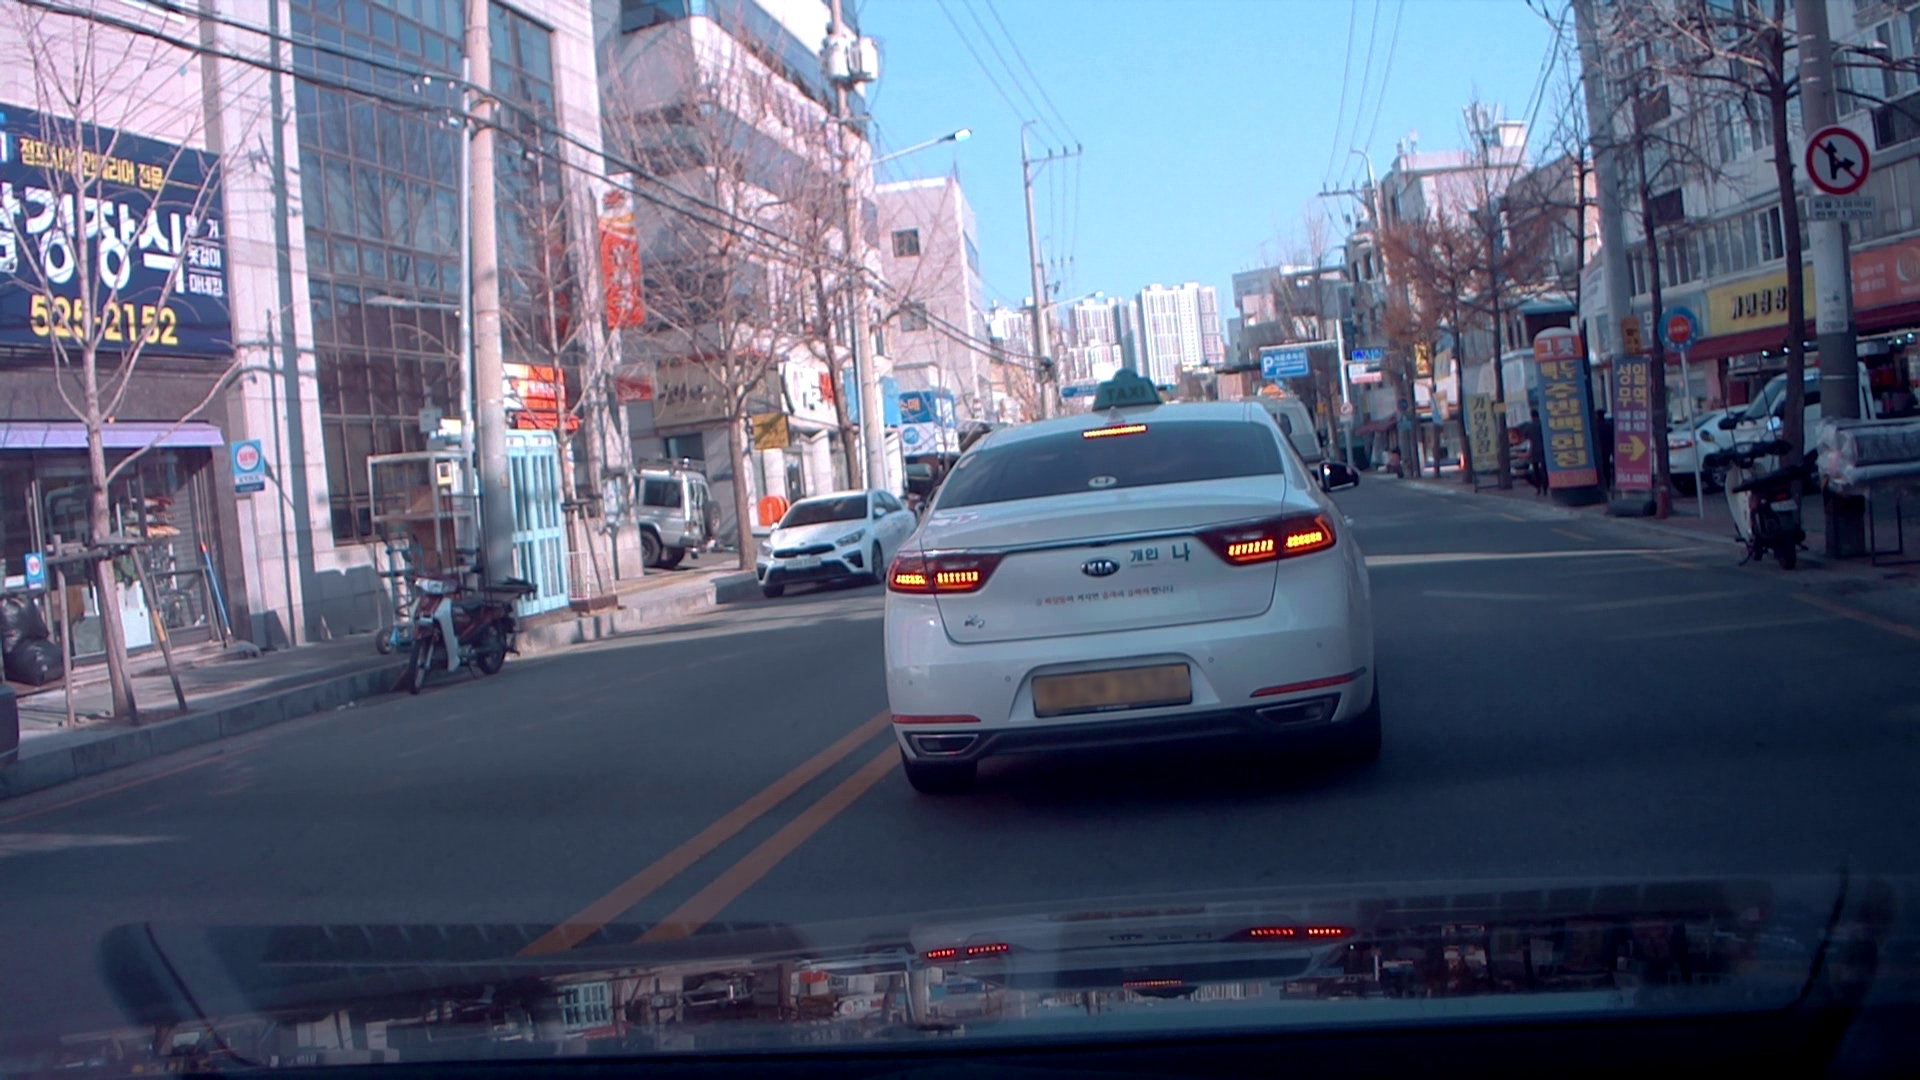trafficSignCircle: (1805, 125, 1870, 196)
